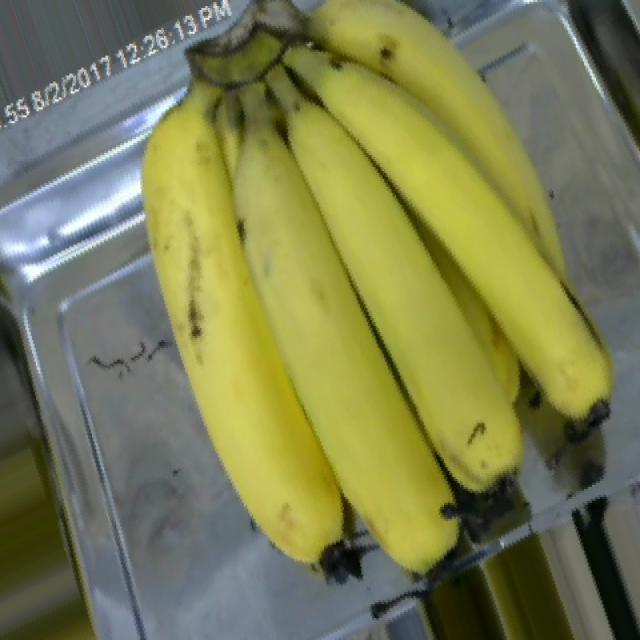banana: (133, 40, 608, 579)
